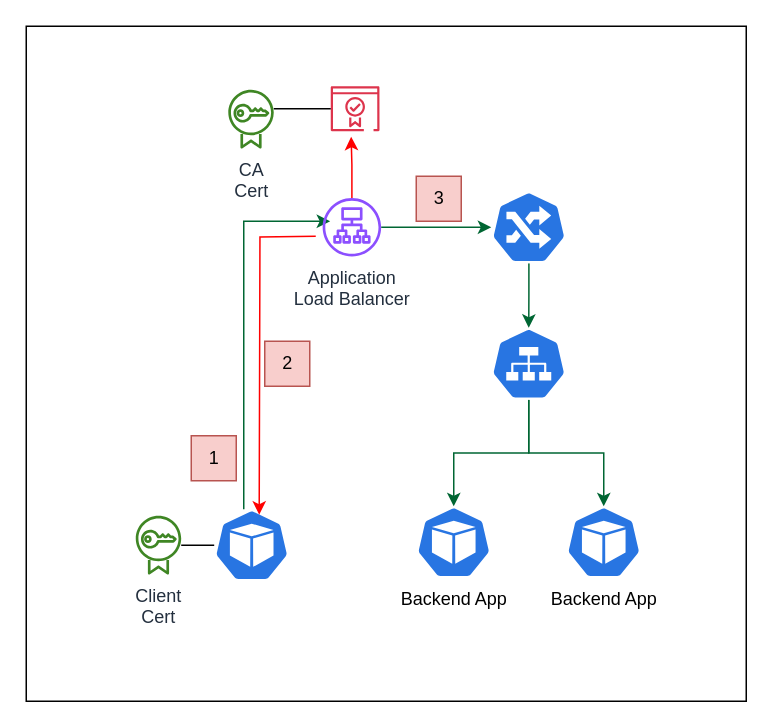
Image size: 773x728. Some labels were removed from this diagram. The shapes that lost their labels are listed below. From the top down, each one's centre as x and y in pixels, then its label:
point 354,108: Private CA in Trust Store
point 528,226: INGRESS
point 528,363: APP SERVICE
point 251,544: CLIENT App
